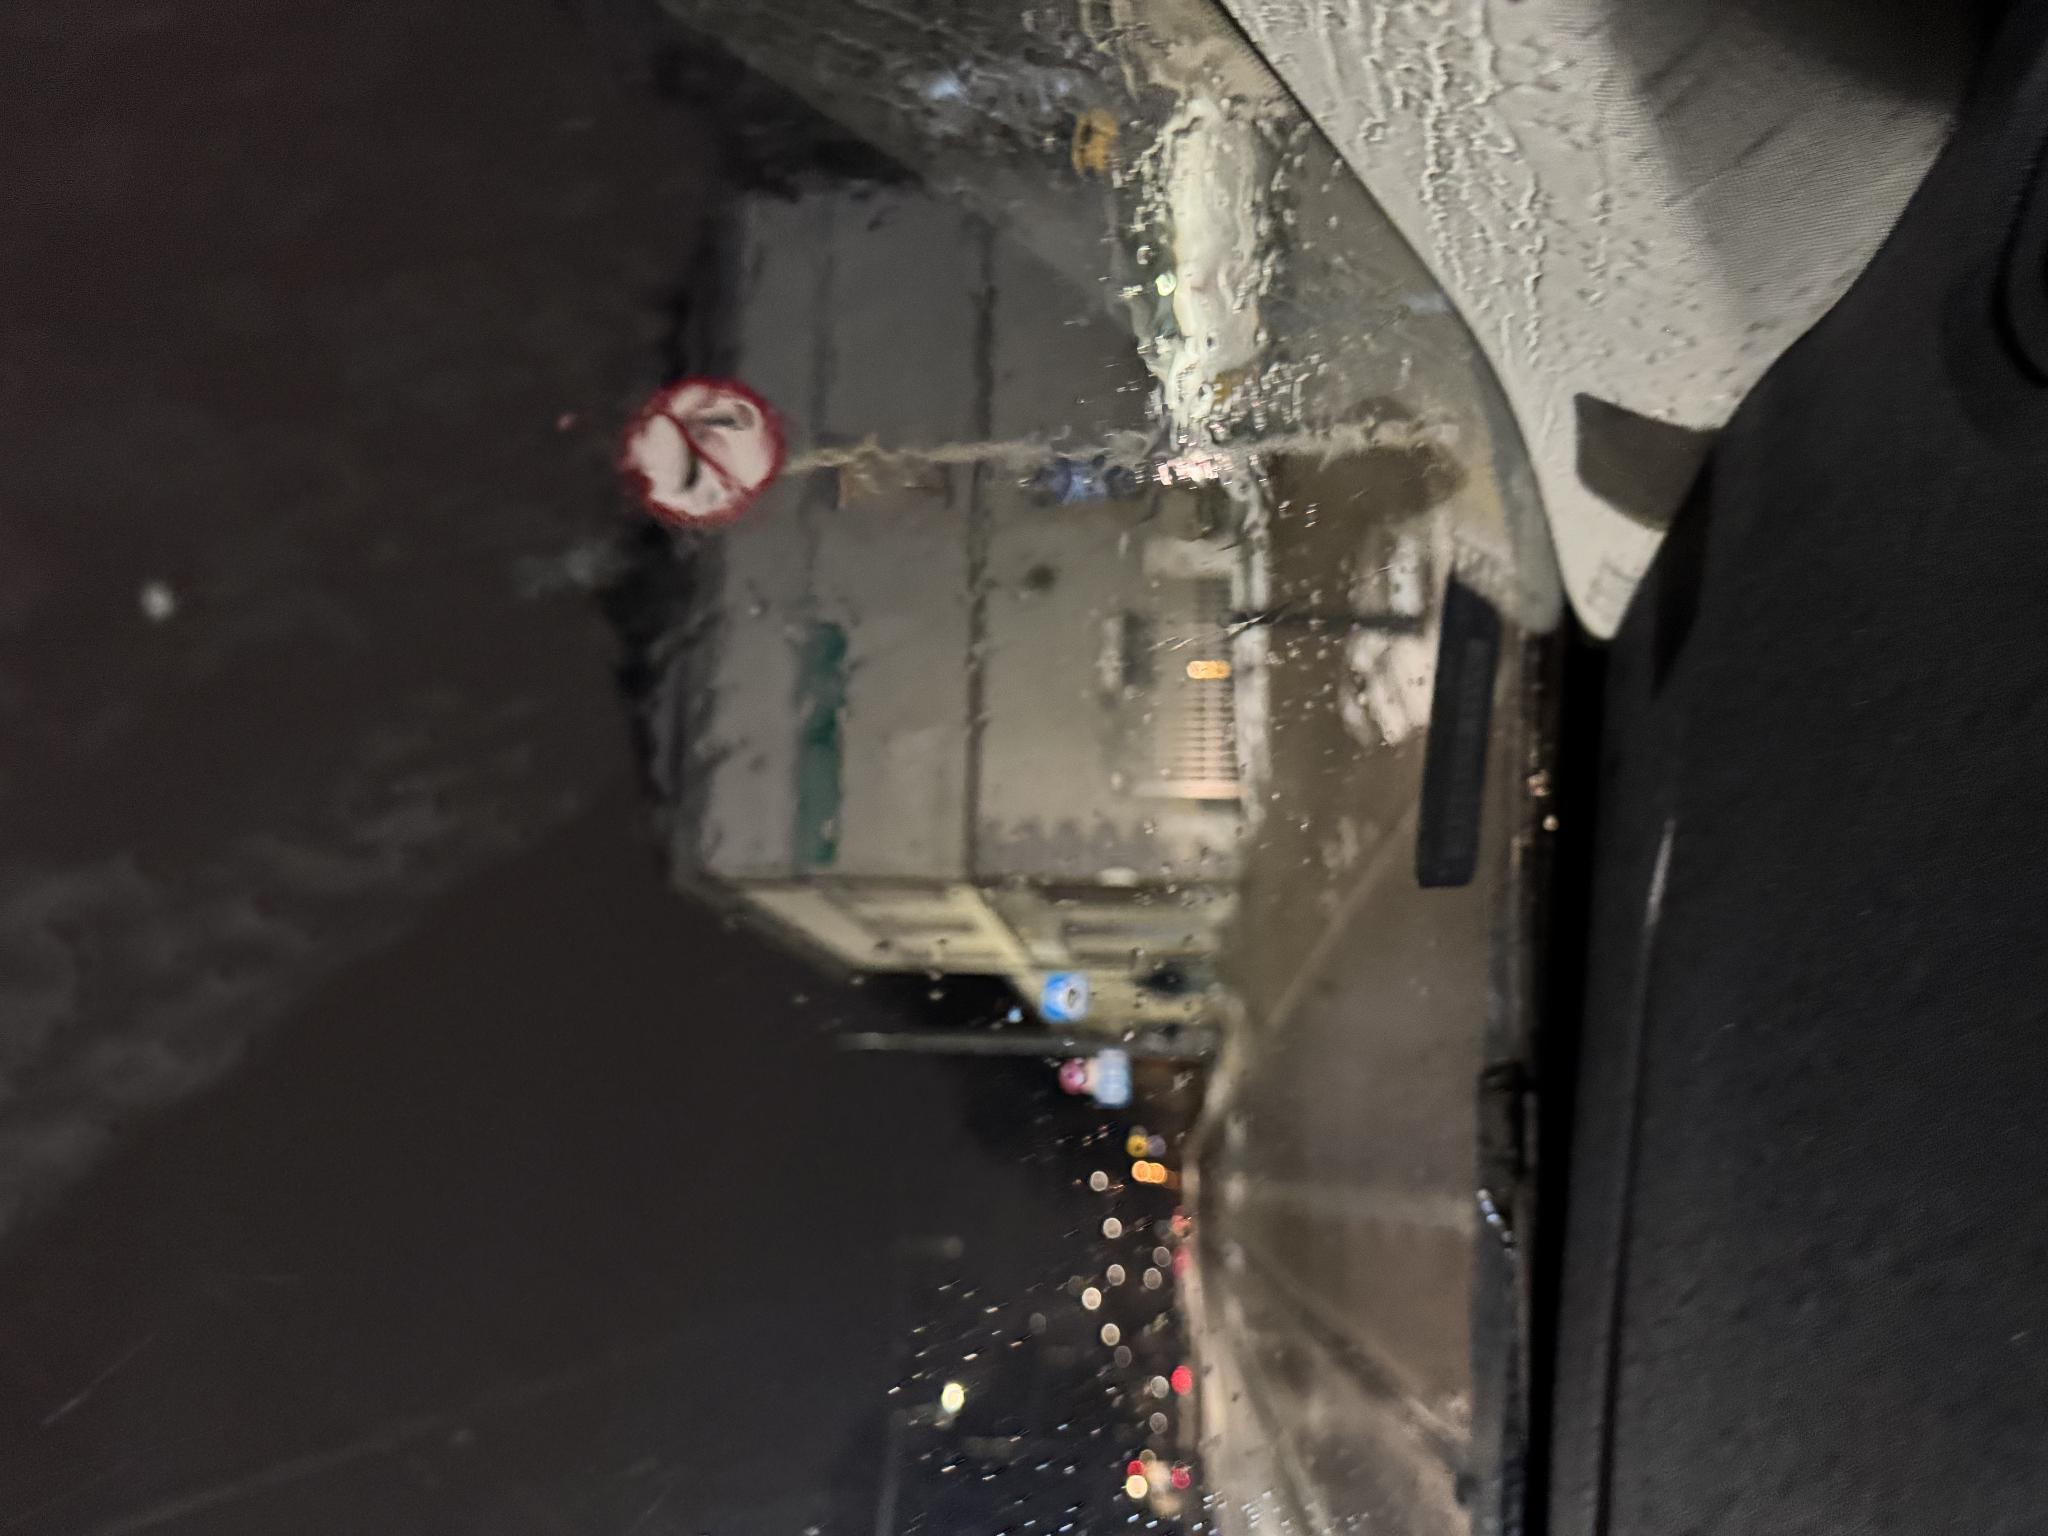prohibitory: (1008, 616, 1158, 784)
